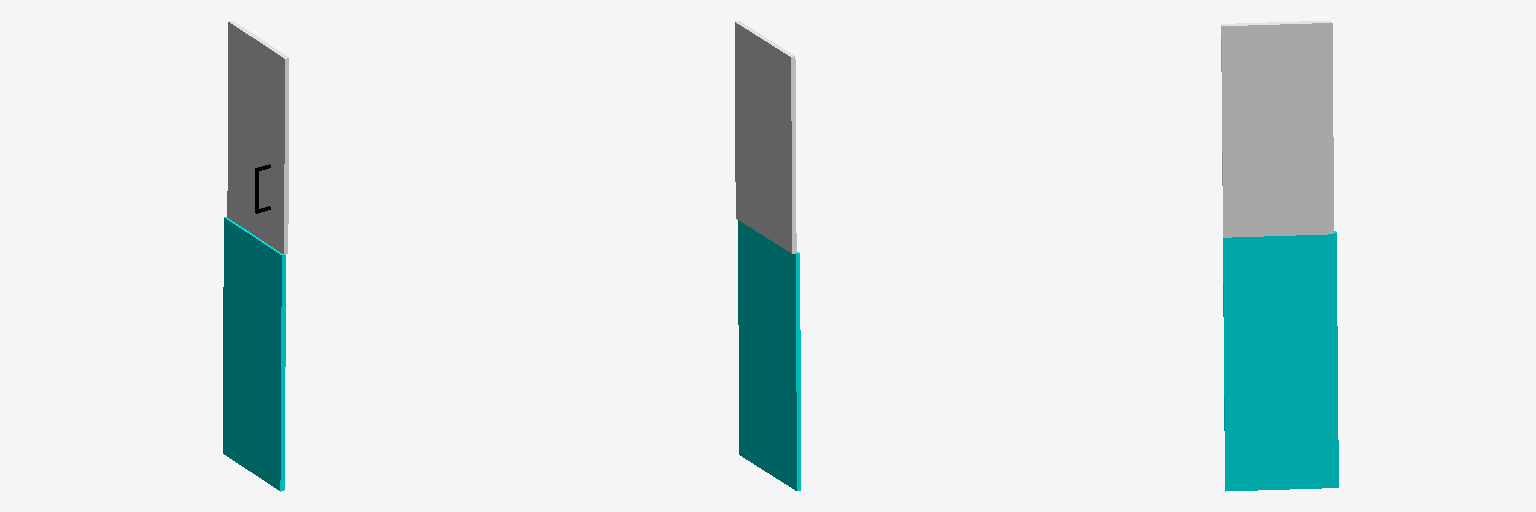
URDF robot description (shelf_new):
<?xml version="1.0" encoding="utf-8"?>
<!-- =================================================================================== -->
<!-- |    This document was autogenerated by xacro from shelf_new.urdf.xacro           | -->
<!-- |    EDITING THIS FILE BY HAND IS NOT RECOMMENDED                                 | -->
<!-- =================================================================================== -->
<robot name="shelf_new">
  <link name="world"/>
  <joint name="fixed" type="fixed">
    <parent link="world"/>
    <child link="shelf"/>
    <origin rpy="-0.008 -0.001 -3.085" xyz="0.943 -0.952 0.903"/>
  </joint>
  <gazebo>
    <plugin filename="libgazebo_ros_control.so" name="gazebo_ros_control">
      <robotNamespace>/shelf</robotNamespace>
      <robotParam>urdf_object </robotParam>
    </plugin>
  </gazebo>
  <link name="shelf">
    <inertial>
      <origin rpy="0 0 0" xyz="0 0 0"/>
      <mass value="5"/>
      <inertia ixx="0.395106061" ixy="0" ixz="0" iyy="0.3397527945" iyz="0" izz="0.395106061"/>
    </inertial>
    <visual>
      <origin rpy="0 0 0" xyz="0 -0.1825 -0.4515"/>
      <geometry>
        <box size="0.018 0.365 0.903"/>
      </geometry>
      <material name="shelf_material">
        <color rgba="0.0 1.0 1.0 1"/>
      </material>
    </visual>
  </link>
  <link name="door">
    <inertial>
      <origin rpy="0 0 0" xyz="0 0 0"/>
      <mass value="5.8"/>
      <inertia ixx="0.332617733" ixy="0" ixz="0" iyy="0.2711985605" iyz="0" izz="0.332617733"/>
    </inertial>
    <visual>
      <origin rpy="0 0 0" xyz="0 0.1785 0"/>
      <geometry>
        <box size="0.018 0.357 0.749"/>
      </geometry>
      <material name="door_material">
        <color rgba="1.0 1.0 1.0 1"/>
      </material>
    </visual>
    <collision>
      <origin rpy="0 0 0" xyz="0 0.1785 0"/>
      <geometry>
        <box size="0.018 0.357 0.749"/>
      </geometry>
      <material name="">
        <contact name="rubber"/>
      </material>
    </collision>
  </link>
  <link name="door_hinge">
    <inertial>
      <mass value="0.01"/>
      <origin rpy="0 0 0" xyz="0 0 0"/>
      <inertia ixx="0.0" ixy="0.0" ixz="0.0" iyy="0.0" iyz="0.0" izz="0.0"/>
    </inertial>
  </link>
  <joint name="door_hinge_joint" type="fixed">
    <parent link="shelf"/>
    <child link="door_hinge"/>
    <origin xyz="-0.009 -0.357 0.3745"/>
  </joint>
  <link name="axis_link">
    <inertial>
      <mass value="0.01"/>
      <origin rpy="0 0 0" xyz="0 0 0"/>
      <inertia ixx="0.0" ixy="0.0" ixz="0.0" iyy="0.0" iyz="0.0" izz="0.0"/>
    </inertial>
  </link>
  <joint name="axis_joint" type="fixed">
    <parent link="door_hinge"/>
    <child link="axis_link"/>
    <origin xyz="0.0 0.0 0.0"/>
  </joint>
  <joint name="articulation_joint" type="revolute">
    <parent link="axis_link"/>
    <child link="measured_joint_link"/>
    <dynamics damping="5.0" friction="10.0"/>
    <origin xyz="0 0 0"/>
    <axis xyz="0 0 -1"/>
    <limit effort="100" lower="0" upper="1.57" velocity="10.0"/>
  </joint>
  <joint name="door_link" type="fixed">
    <parent link="measured_joint_link"/>
    <child link="door"/>
    <origin xyz="0.0 0.0 0.0"/>
  </joint>
  <link name="handle_link">
    <inertial>
      <origin rpy="0 0 0" xyz="0 0 0"/>
      <mass value="0.1"/>
      <inertia ixx="0.001" ixy="0" ixz="0" iyy="0.001" iyz="0" izz="0.001"/>
    </inertial>
    <visual>
      <origin rpy="0 0 0" xyz="0 0 0"/>
      <geometry>
        <box size="0.01 0.01 0.17"/>
      </geometry>
      <material name="handle_material">
        <color rgba="0.0 0.0 0.0 1"/>
      </material>
    </visual>
    <collision>
      <origin rpy="0 0 0" xyz="0 0 0"/>
      <geometry>
        <box size="0.01 0.01 0.17"/>
      </geometry>
      <material name="">
        <contact name="rubber"/>
      </material>
    </collision>
  </link>
  <link name="handle_support_left">
    <inertial>
      <origin rpy="0 0 0" xyz="0 0 0"/>
      <mass value="0.1"/>
      <inertia ixx="0.001" ixy="0" ixz="0" iyy="0.001" iyz="0" izz="0.001"/>
    </inertial>
    <visual>
      <origin rpy="0 0 0" xyz="0 0 0"/>
      <geometry>
        <box size="0.056 0.01 0.01"/>
      </geometry>
      <material name="handle_material">
        <color rgba="0.0 0.0 0.0 1"/>
      </material>
    </visual>
    <collision>
      <origin rpy="0 0 0" xyz="0 0 0"/>
      <geometry>
        <box size="0.056 0.01 0.01"/>
      </geometry>
      <material name="">
        <contact name="rubber"/>
      </material>
    </collision>
  </link>
  <link name="handle_support_right">
    <inertial>
      <origin rpy="0 0 0" xyz="0 0 0"/>
      <mass value="0.1"/>
      <inertia ixx="0.001" ixy="0" ixz="0" iyy="0.001" iyz="0" izz="0.001"/>
    </inertial>
    <visual>
      <origin rpy="0 0 0" xyz="0 0 0"/>
      <geometry>
        <box size="0.056 0.01 0.01"/>
      </geometry>
      <material name="handle_material">
        <color rgba="0.0 0.0 0.0 1"/>
      </material>
    </visual>
    <collision>
      <origin rpy="0 0 0" xyz="0 0 0"/>
      <geometry>
        <box size="0.056 0.01 0.01"/>
      </geometry>
      <material name="">
        <contact name="rubber"/>
      </material>
    </collision>
  </link>
  <joint name="handle_joint" type="fixed">
    <parent link="door"/>
    <child link="handle_link"/>
    <origin rpy="0 0 0" xyz="0.065 0.27 -0.15"/>
    <!-- height handle + half the width door, 0.30 minus some offset -->
  </joint>
  <joint name="handle_ref" type="fixed">
    <parent link="handle_link"/>
    <child link="handle_ref"/>
    <origin rpy="0 0 0" xyz="-0.028 0 0"/>
    <!-- height handle + half the width door, 0.30 minus some offset -->
  </joint>
  <link name="handle_ref">
    <inertial>
      <mass value="0.01"/>
      <origin rpy="0 0 0" xyz="0 0 0"/>
      <inertia ixx="0.0" ixy="0.0" ixz="0.0" iyy="0.0" iyz="0.0" izz="0.0"/>
    </inertial>
  </link>
  <joint name="handle_support_left_joint" type="fixed">
    <parent link="handle_link"/>
    <child link="handle_support_left"/>
    <origin rpy="0 0 0" xyz="-0.028 0 -0.08"/>
  </joint>
  <joint name="handle_support_right_joint" type="fixed">
    <parent link="handle_link"/>
    <child link="handle_support_right"/>
    <origin rpy="0 0 0" xyz="-0.028 0 0.08"/>
  </joint>
  <link name="measured_joint_link">
    <inertial>
      <mass value="0.01"/>
      <origin rpy="0 0 0" xyz="0 0 0"/>
      <inertia ixx="0.0" ixy="0.0" ixz="0.0" iyy="0.0" iyz="0.0" izz="0.0"/>
    </inertial>
  </link>
  <link name="measured_joint_link_test">
    <inertial>
      <mass value="0.01"/>
      <origin rpy="0 0 0" xyz="0 0 0"/>
      <inertia ixx="0.0" ixy="0.0" ixz="0.0" iyy="0.0" iyz="0.0" izz="0.0"/>
    </inertial>
  </link>
  <joint name="measured_test_handle_joint" type="fixed">
    <parent link="handle_link"/>
    <child link="measured_joint_link_test"/>
    <origin rpy="0 0 0" xyz="-0.06 -0.243 0.0"/>
  </joint>
  <transmission name="hinge">
    <type>transmission_interface/SimpleTransmission</type>
    <joint name="articulation_joint">
      <hardwareInterface>EffortJointInterface</hardwareInterface>
    </joint>
    <actuator name="motor1">
      <hardwareInterface>EffortJointInterface</hardwareInterface>
      <mechanicalReduction>1</mechanicalReduction>
    </actuator>
  </transmission>
</robot>

--- Facts derived from the render (not from the file) ---
Views: 3 orthographic renders of the robot side by side, from view 1: azimuth 30°, elevation 25°; view 2: azimuth 210°, elevation 25°; view 3: azimuth 270°, elevation 25°.
Robot: shelf_new — 11 links, 10 joints (1 revolute, 9 fixed); root link world; default pose: all joints at 0.
Visible links, largest first — view 1: shelf, door; view 2: shelf, door; view 3: shelf, door.
Boxes of the visible links, x1,y1,x2,y2 form: shelf: (223,217,285,491); door: (227,21,288,254); shelf: (738,220,800,490); door: (735,21,796,253); shelf: (1223,231,1338,491); door: (1221,21,1333,237).
Size in the robot's own frame: 0.085 by 0.378 by 1.65 metres.
Geometry: primitives only (box / cylinder / sphere), no mesh files.